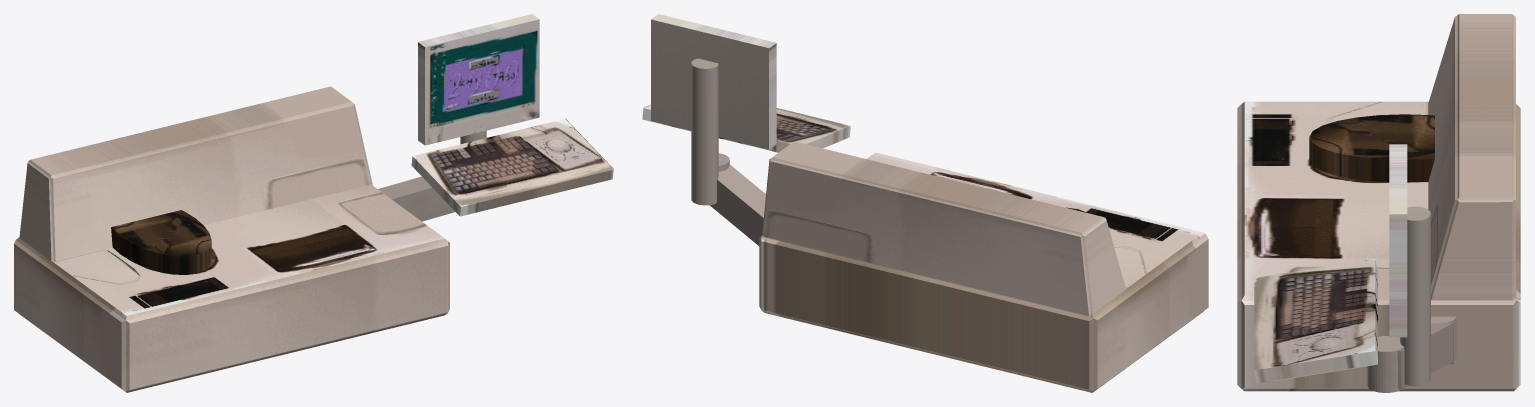
File: Generic Tabletop Instrument.obj
The picture shows the model from 3 angles, left to right: view 1: azimuth 30°, elevation 25°; view 2: azimuth 150°, elevation 25°; view 3: azimuth 270°, elevation 25°; orthographic projection. The views are drawn at different scales.
Visible parts, largest first — view 1: object1; view 2: object1; view 3: object1.
Part boxes in pixels (box(x1,y1,x2,y2)): object1: box(14, 14, 613, 392); object1: box(642, 14, 1208, 392); object1: box(1237, 14, 1520, 392).
Bounding box in the file's own units: 67.51 × 28.15 × 26.76.
Materials: 1 (1 with a texture image).
